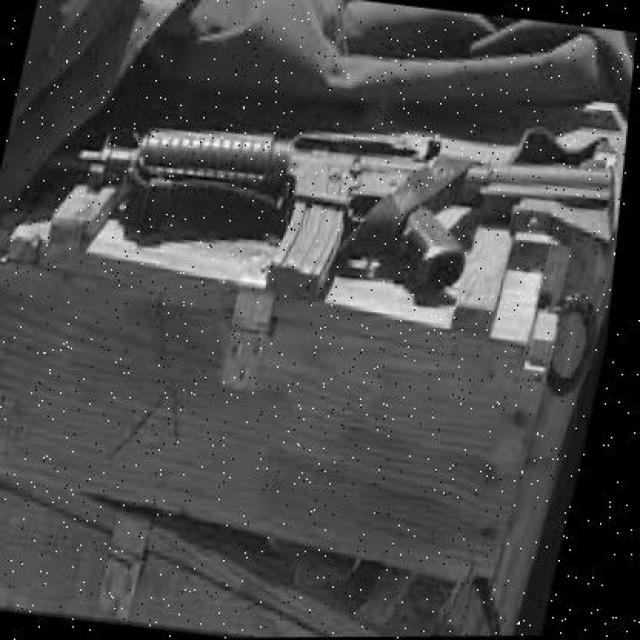weapon: (39, 126, 616, 297)
